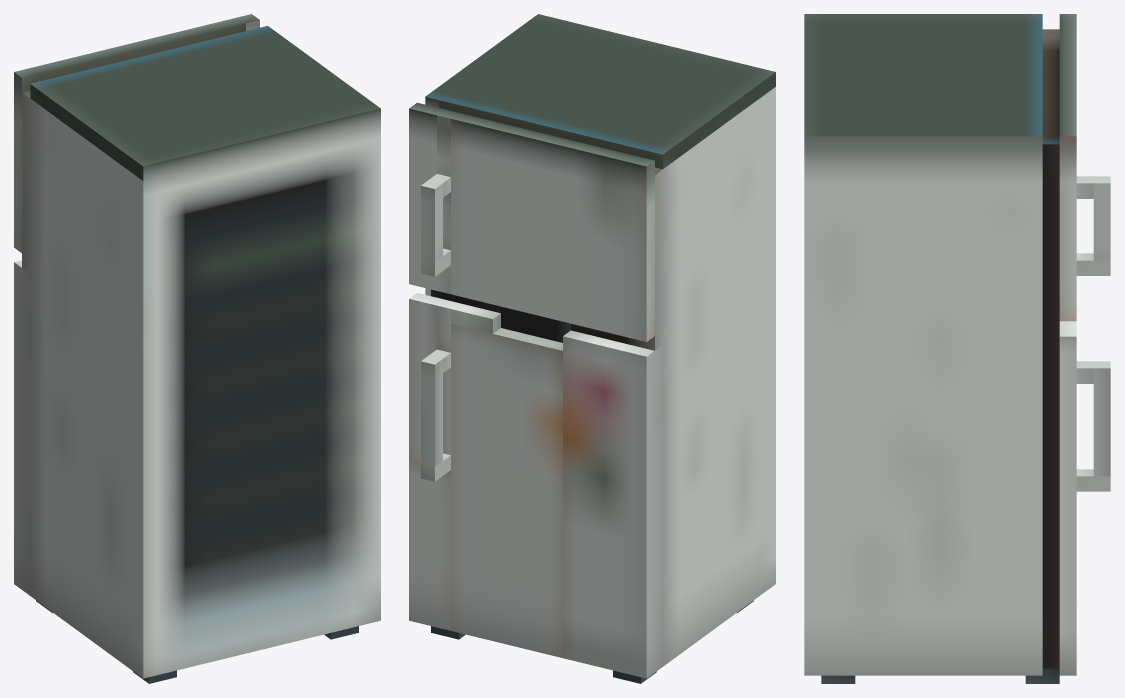
File: Fridge_00.obj
The picture shows the model from 3 angles, left to right: view 1: azimuth 30°, elevation 25°; view 2: azimuth 150°, elevation 25°; view 3: azimuth 270°, elevation 25°; orthographic projection. The views are drawn at different scales.
Visible parts, largest first — view 1: Fridge_00; view 2: Fridge_00; view 3: Fridge_00.
Boxes of the visible parts, <box> form: Fridge_00: <box>14,14,380,683</box>; Fridge_00: <box>409,14,775,683</box>; Fridge_00: <box>804,14,1110,683</box>.
Bounding box in the file's own units: 0.85 × 1.8 × 0.9.
